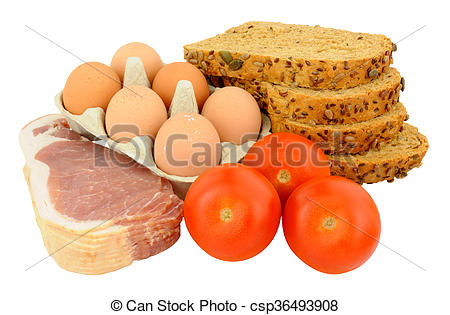bacon: (19, 106, 183, 273)
